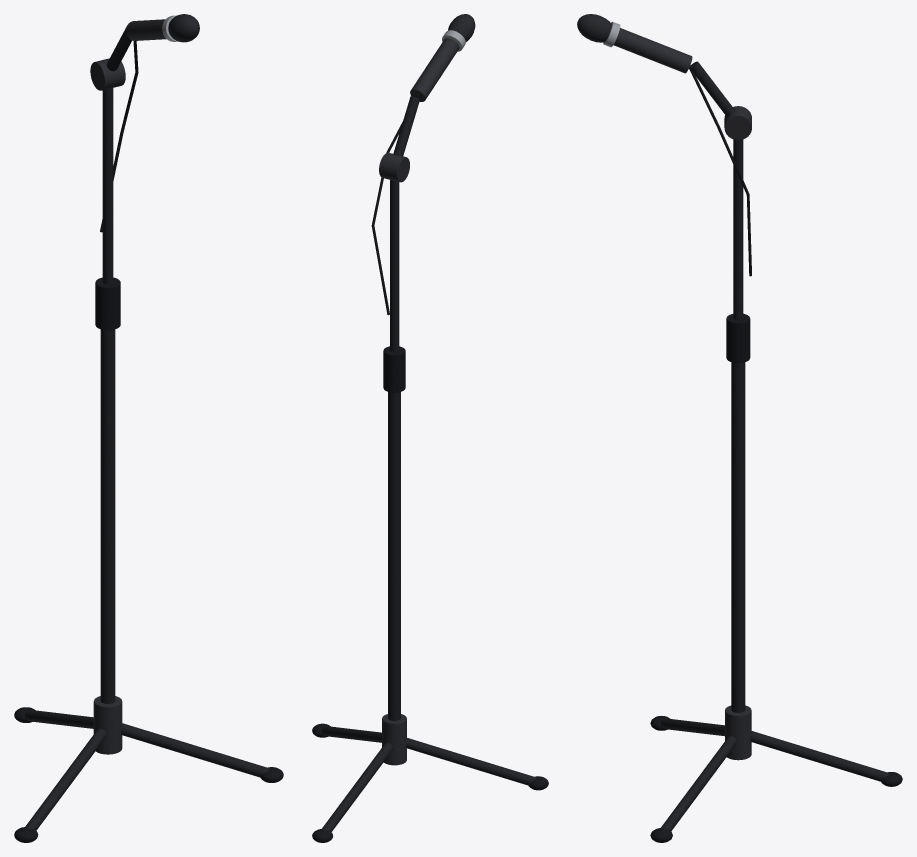
File: 05_microphone_stand.glb
3 renders of one model, left to right at view 1: azimuth 30°, elevation 25°; view 2: azimuth 150°, elevation 25°; view 3: azimuth 270°, elevation 25°, orthographic. The views are drawn at different scales.
Visible parts, largest first — view 1: 05_microphone_stand__lower_shaft, 05_microphone_stand__upper_shaft, 05_microphone_stand__leg.002, 05_microphone_stand__leg.001, 05_microphone_stand__tripod_hub, 05_microphone_stand__adjustment_collar, 05_microphone_stand__leg, 05_microphone_stand__tilt_knuckle, 05_microphone_stand__mic_body, 05_microphone_stand__microphone_grille, 05_microphone_stand__mic_short_cable; view 2: 05_microphone_stand__lower_shaft, 05_microphone_stand__upper_shaft, 05_microphone_stand__leg.001, 05_microphone_stand__mic_body, 05_microphone_stand__leg, 05_microphone_stand__tripod_hub, 05_microphone_stand__adjustment_collar, 05_microphone_stand__tilt_knuckle, 05_microphone_stand__short_angled_neck, 05_microphone_stand__leg.002, 05_microphone_stand__mic_short_cable, 05_microphone_stand__microphone_grille; view 3: 05_microphone_stand__lower_shaft, 05_microphone_stand__upper_shaft, 05_microphone_stand__leg, 05_microphone_stand__mic_body, 05_microphone_stand__leg.002, 05_microphone_stand__tripod_hub, 05_microphone_stand__adjustment_collar, 05_microphone_stand__microphone_grille, 05_microphone_stand__tilt_knuckle, 05_microphone_stand__mic_short_cable, 05_microphone_stand__leg.001, 05_microphone_stand__short_angled_neck.
Part boxes in pixels (x1,y1,x2,y2): 05_microphone_stand__lower_shaft: (100, 329, 115, 703); 05_microphone_stand__upper_shaft: (102, 88, 113, 284); 05_microphone_stand__leg.002: (121, 723, 269, 777); 05_microphone_stand__leg.001: (25, 728, 106, 830); 05_microphone_stand__tripod_hub: (93, 696, 122, 754); 05_microphone_stand__adjustment_collar: (95, 277, 120, 330); 05_microphone_stand__leg: (25, 709, 93, 728); 05_microphone_stand__tilt_knuckle: (90, 58, 125, 90); 05_microphone_stand__mic_body: (125, 19, 166, 40); 05_microphone_stand__microphone_grille: (168, 14, 199, 42); 05_microphone_stand__mic_short_cable: (100, 41, 138, 232); 05_microphone_stand__lower_shaft: (388, 392, 400, 720); 05_microphone_stand__upper_shaft: (390, 180, 399, 352); 05_microphone_stand__leg.001: (406, 738, 536, 785); 05_microphone_stand__mic_body: (410, 38, 459, 101); 05_microphone_stand__leg: (321, 742, 393, 831); 05_microphone_stand__tripod_hub: (382, 714, 406, 765); 05_microphone_stand__adjustment_collar: (383, 346, 405, 392); 05_microphone_stand__tilt_knuckle: (379, 152, 409, 182); 05_microphone_stand__short_angled_neck: (393, 96, 419, 155); 05_microphone_stand__leg.002: (321, 726, 381, 742); 05_microphone_stand__mic_short_cable: (371, 95, 418, 315); 05_microphone_stand__microphone_grille: (448, 14, 475, 42); 05_microphone_stand__lower_shaft: (731, 362, 745, 712); 05_microphone_stand__upper_shaft: (733, 139, 743, 319); 05_microphone_stand__leg: (750, 731, 889, 781); 05_microphone_stand__mic_body: (613, 28, 692, 73); 05_microphone_stand__leg.002: (660, 736, 736, 831); 05_microphone_stand__tripod_hub: (725, 705, 751, 760); 05_microphone_stand__adjustment_collar: (726, 313, 750, 362); 05_microphone_stand__microphone_grille: (577, 14, 611, 42); 05_microphone_stand__tilt_knuckle: (724, 106, 751, 140); 05_microphone_stand__mic_short_cable: (689, 65, 751, 276); 05_microphone_stand__leg.001: (660, 718, 724, 736); 05_microphone_stand__short_angled_neck: (690, 61, 735, 116).
Size of the model in its own units: 0.5829 by 1.72 by 0.6592.
5 materials, 5 textured.
